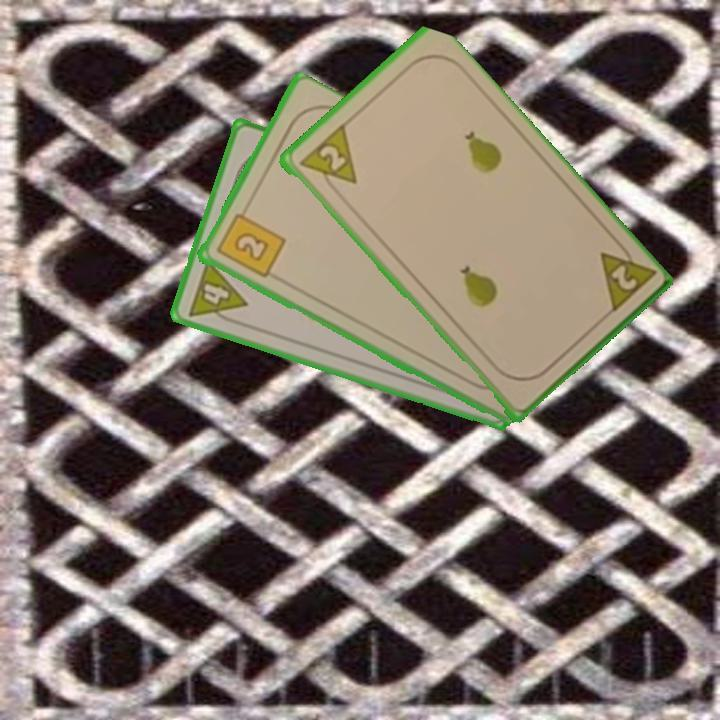2b: (212, 203, 288, 281)
2p: (595, 235, 657, 317), (295, 122, 360, 199)
4p: (184, 255, 250, 329)
